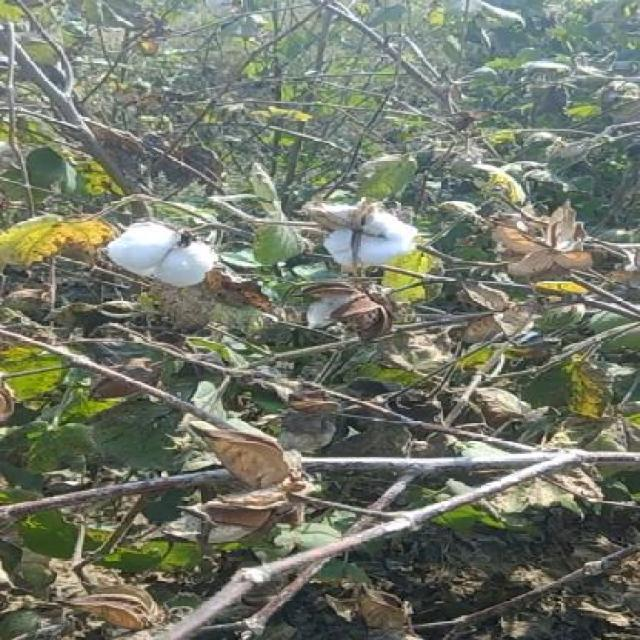cotton_ready: (72, 224, 223, 301), (296, 196, 406, 276)
